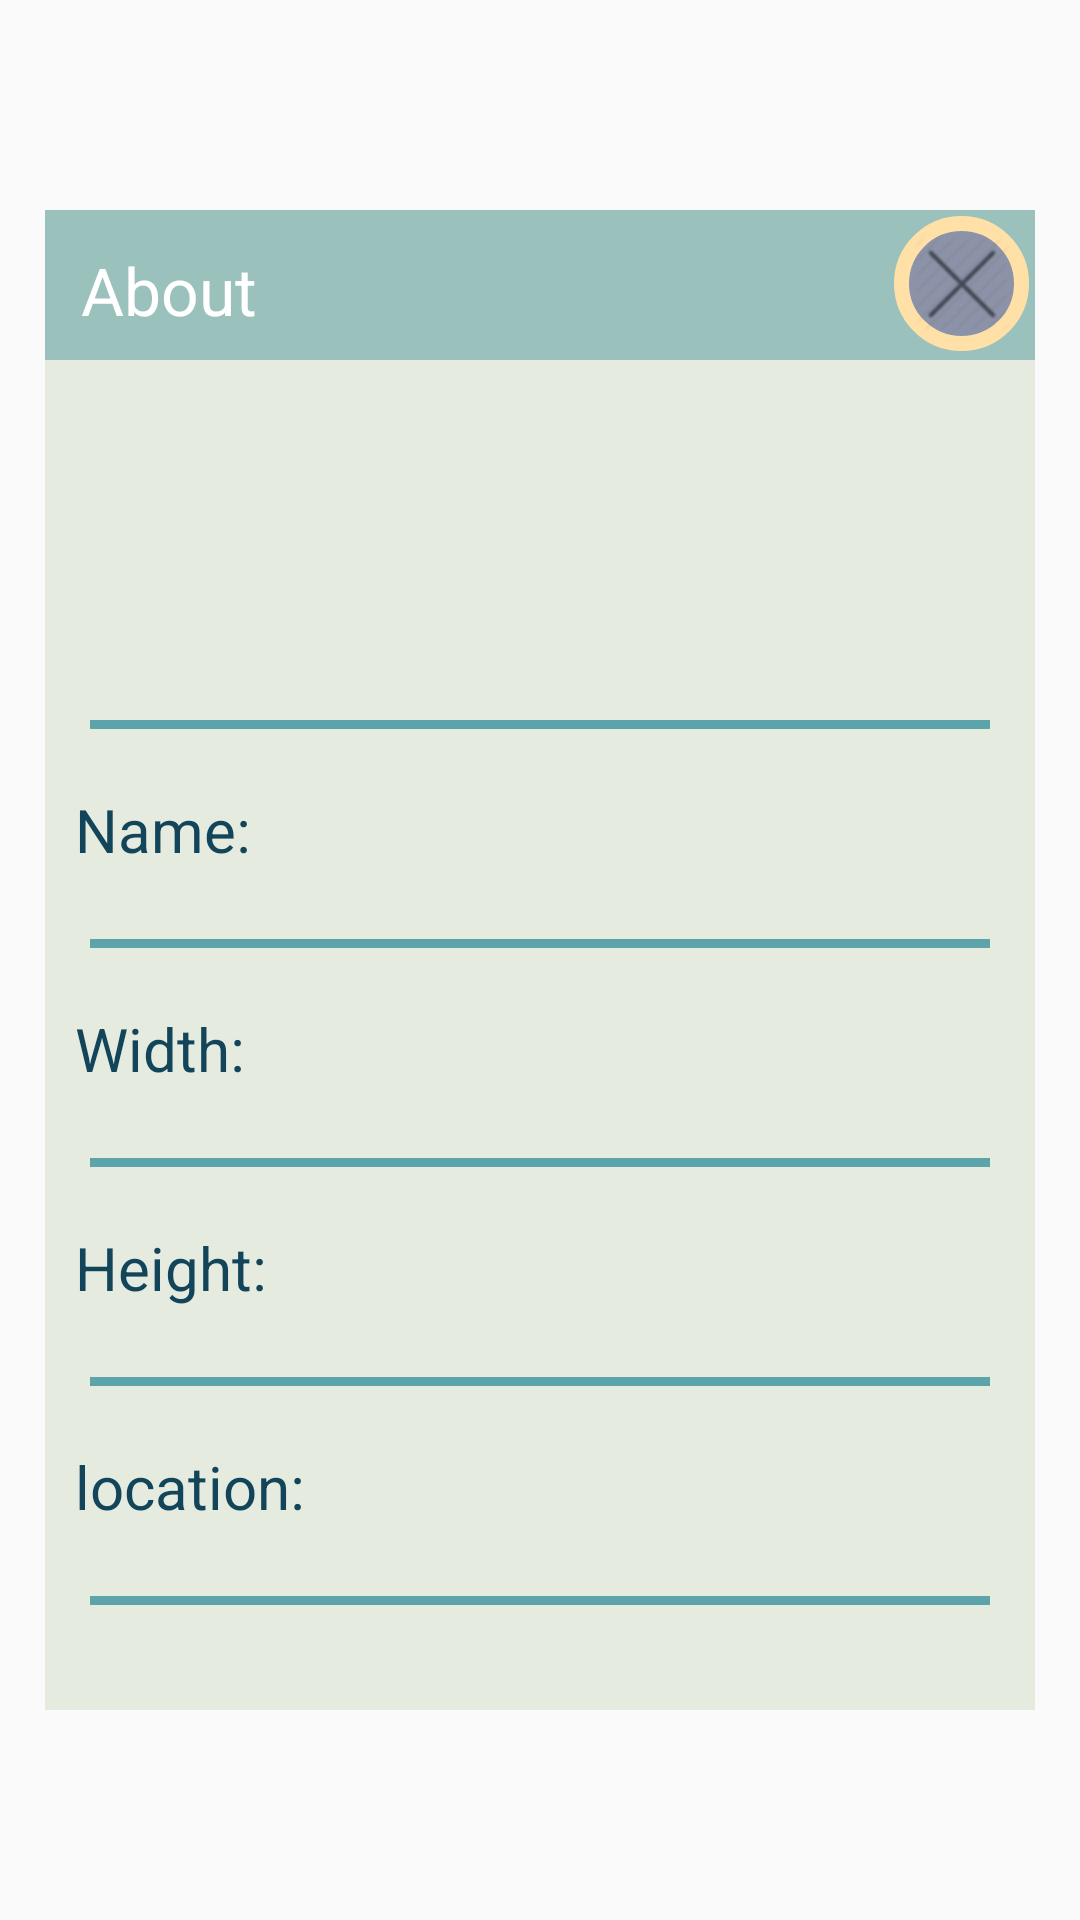

Named icons in this screenshot (1080*1920) and their centers, [x,y]:
cancel: [961,283]
